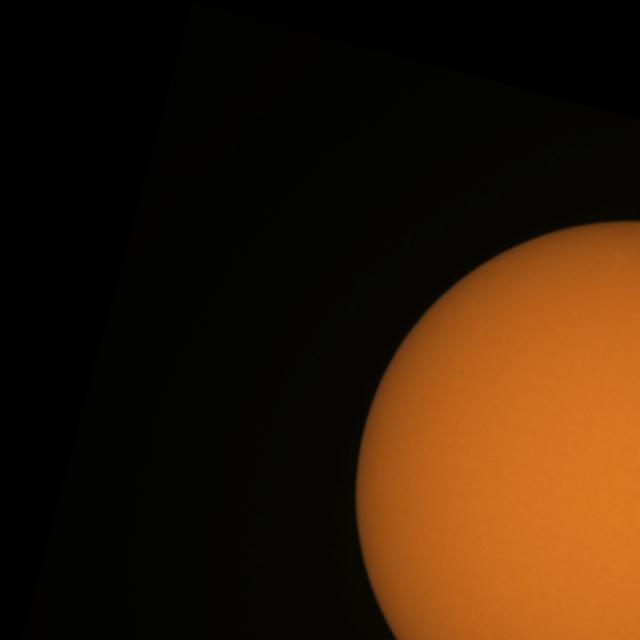sunspot: (459, 368, 465, 376)
